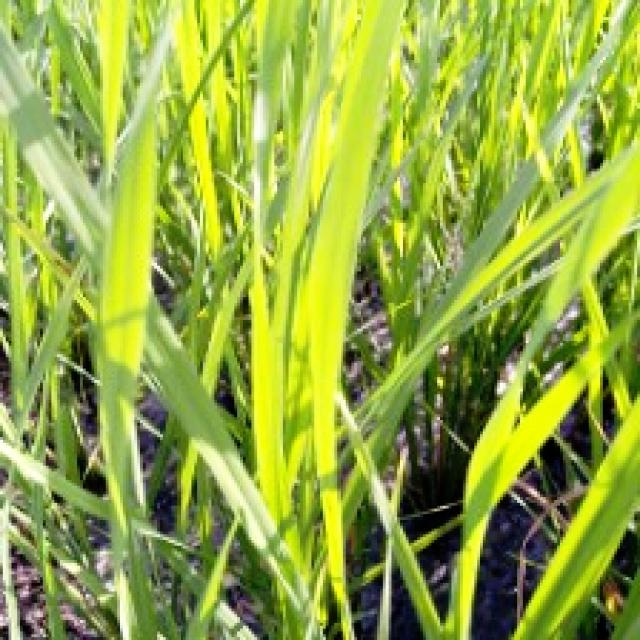health: (249, 1, 414, 639)
